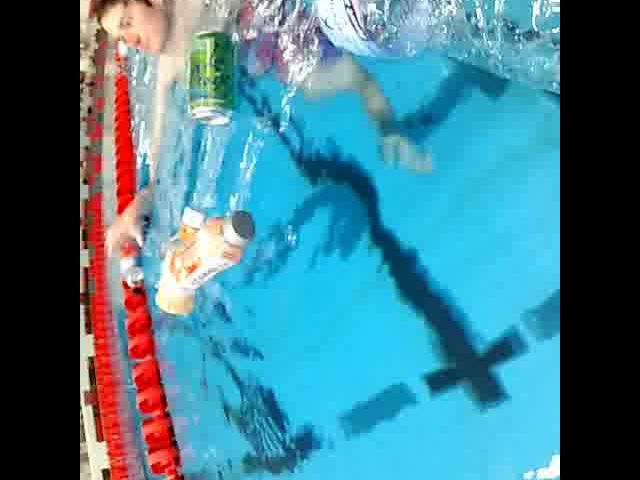Bottle: (301, 0, 560, 76), (168, 206, 258, 294), (151, 201, 211, 319)
Can: (185, 21, 241, 139)
